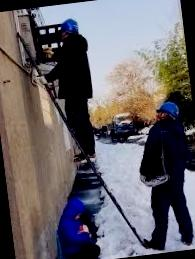helmet: (154, 97, 181, 117), (57, 15, 83, 34)
person: (120, 95, 195, 255), (36, 17, 100, 161)
